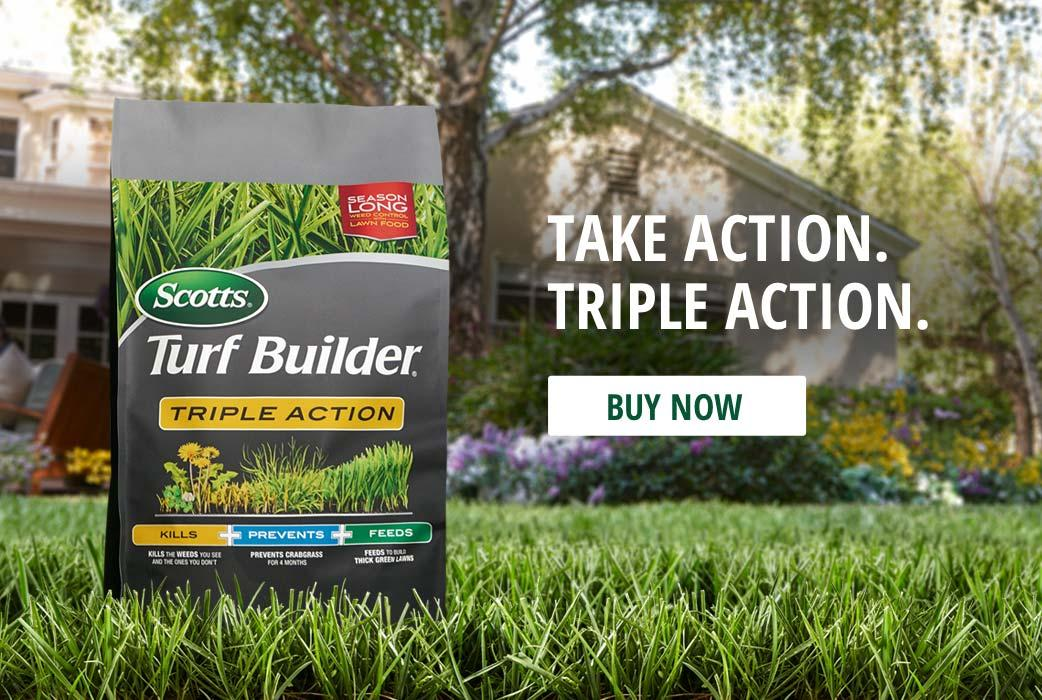crabgrass: (254, 451, 326, 512)
